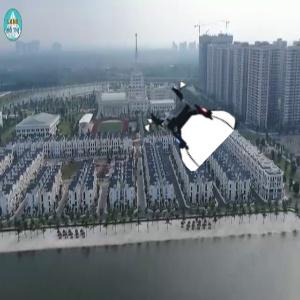drone: (149, 85, 228, 164)
